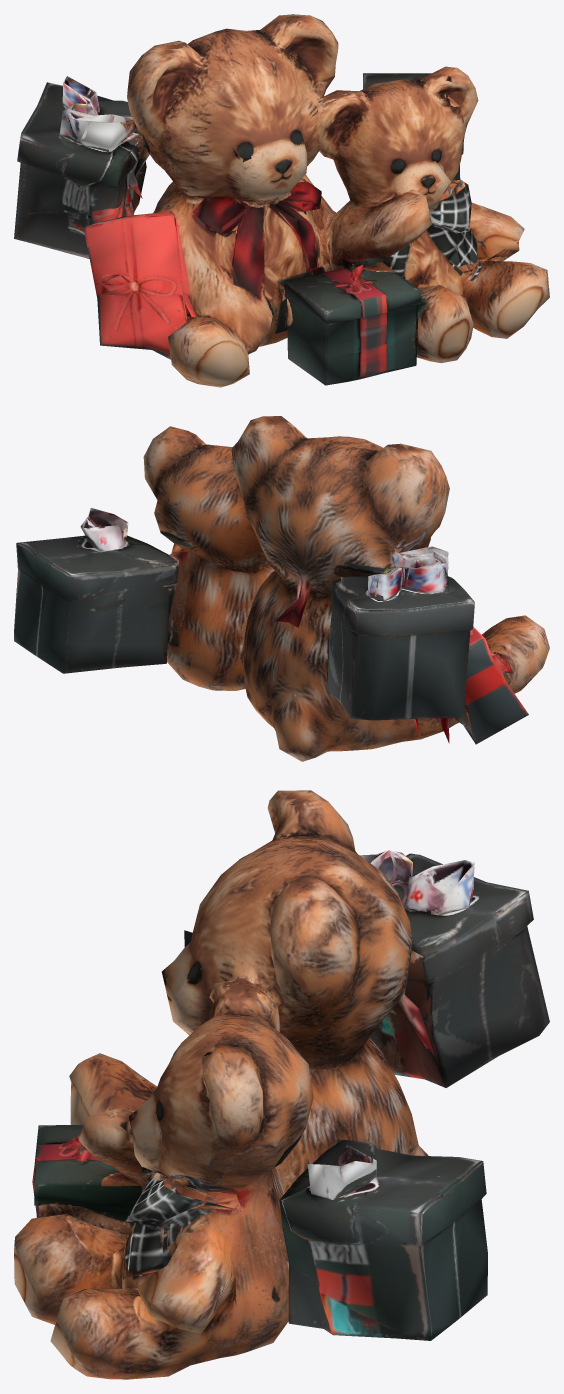
The model's file is Teddy_Gift_Celebratio_1205141354_texture.glb.
The picture shows the model from 3 angles, top to bottom: view 1: azimuth 30°, elevation 25°; view 2: azimuth 150°, elevation 25°; view 3: azimuth 270°, elevation 25°; orthographic projection. The views are drawn at different scales.
Visible parts, largest first — view 1: Mesh1.0; view 2: Mesh1.0; view 3: Mesh1.0.
Boxes of the visible parts, x1,y1,x2,y2 form: Mesh1.0: (14, 14, 549, 387); Mesh1.0: (14, 416, 549, 761); Mesh1.0: (14, 790, 549, 1379).
Bounding box in the file's own units: 1.55 × 1 × 1.18.
Materials: 1 (1 with a texture image).
